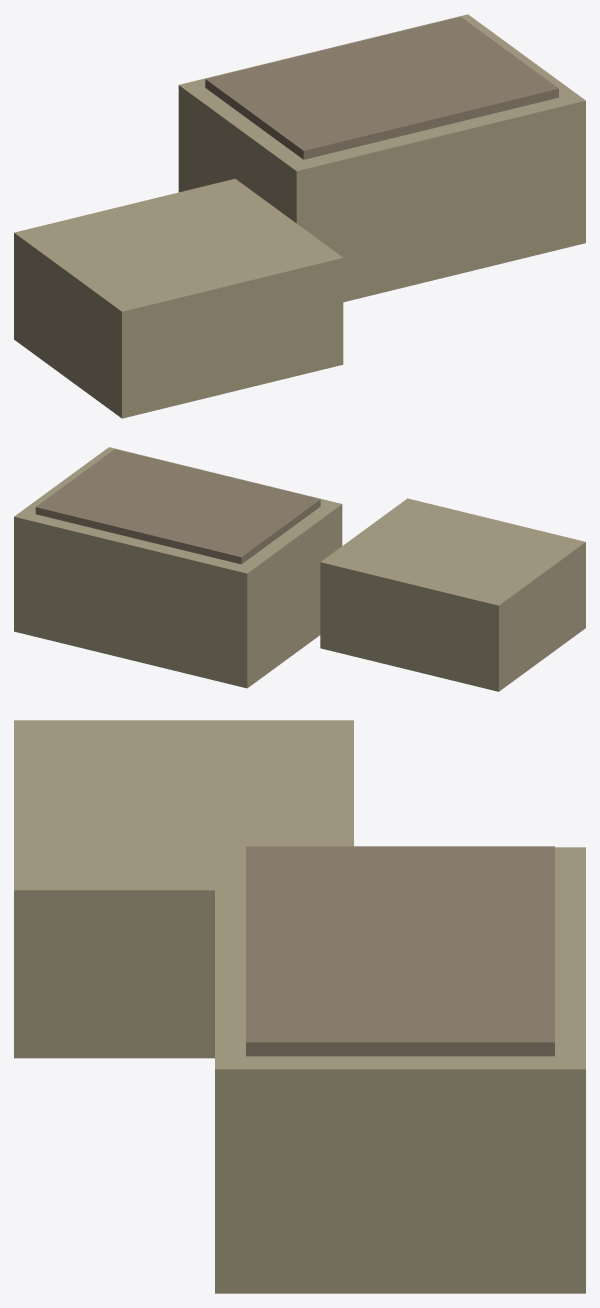
Rendered from cuttings.glb.
3 renders of one model, top to bottom at view 1: azimuth 30°, elevation 25°; view 2: azimuth 150°, elevation 25°; view 3: azimuth 270°, elevation 25°, orthographic. The views are drawn at different scales.
Size of the model in its own units: 6.2 by 1.7 by 3.7.
